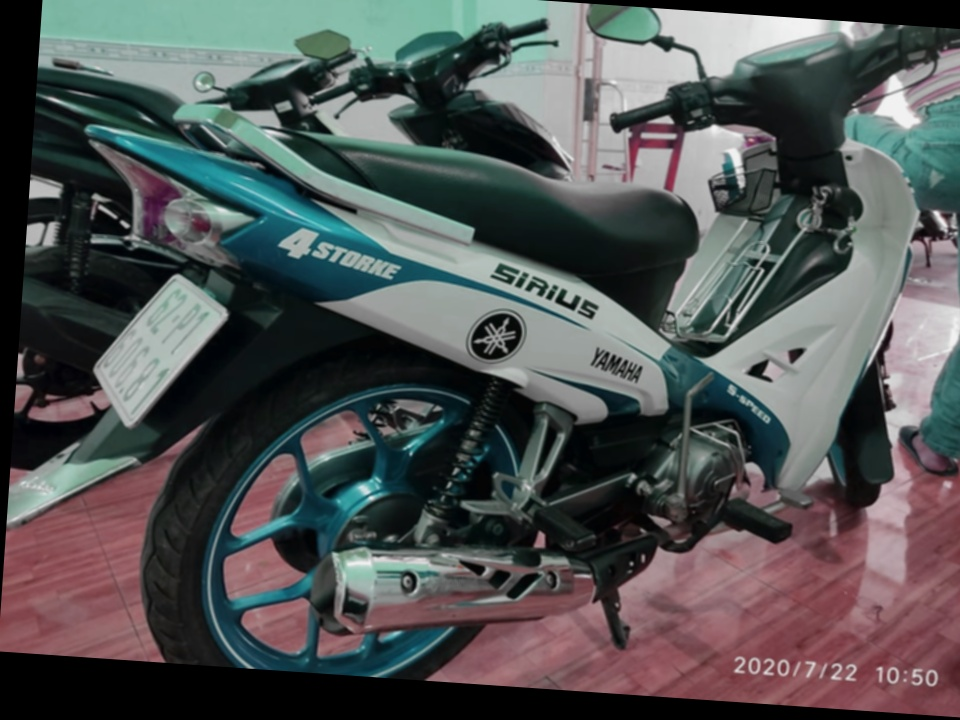Bien-so: (59, 299, 202, 462)
